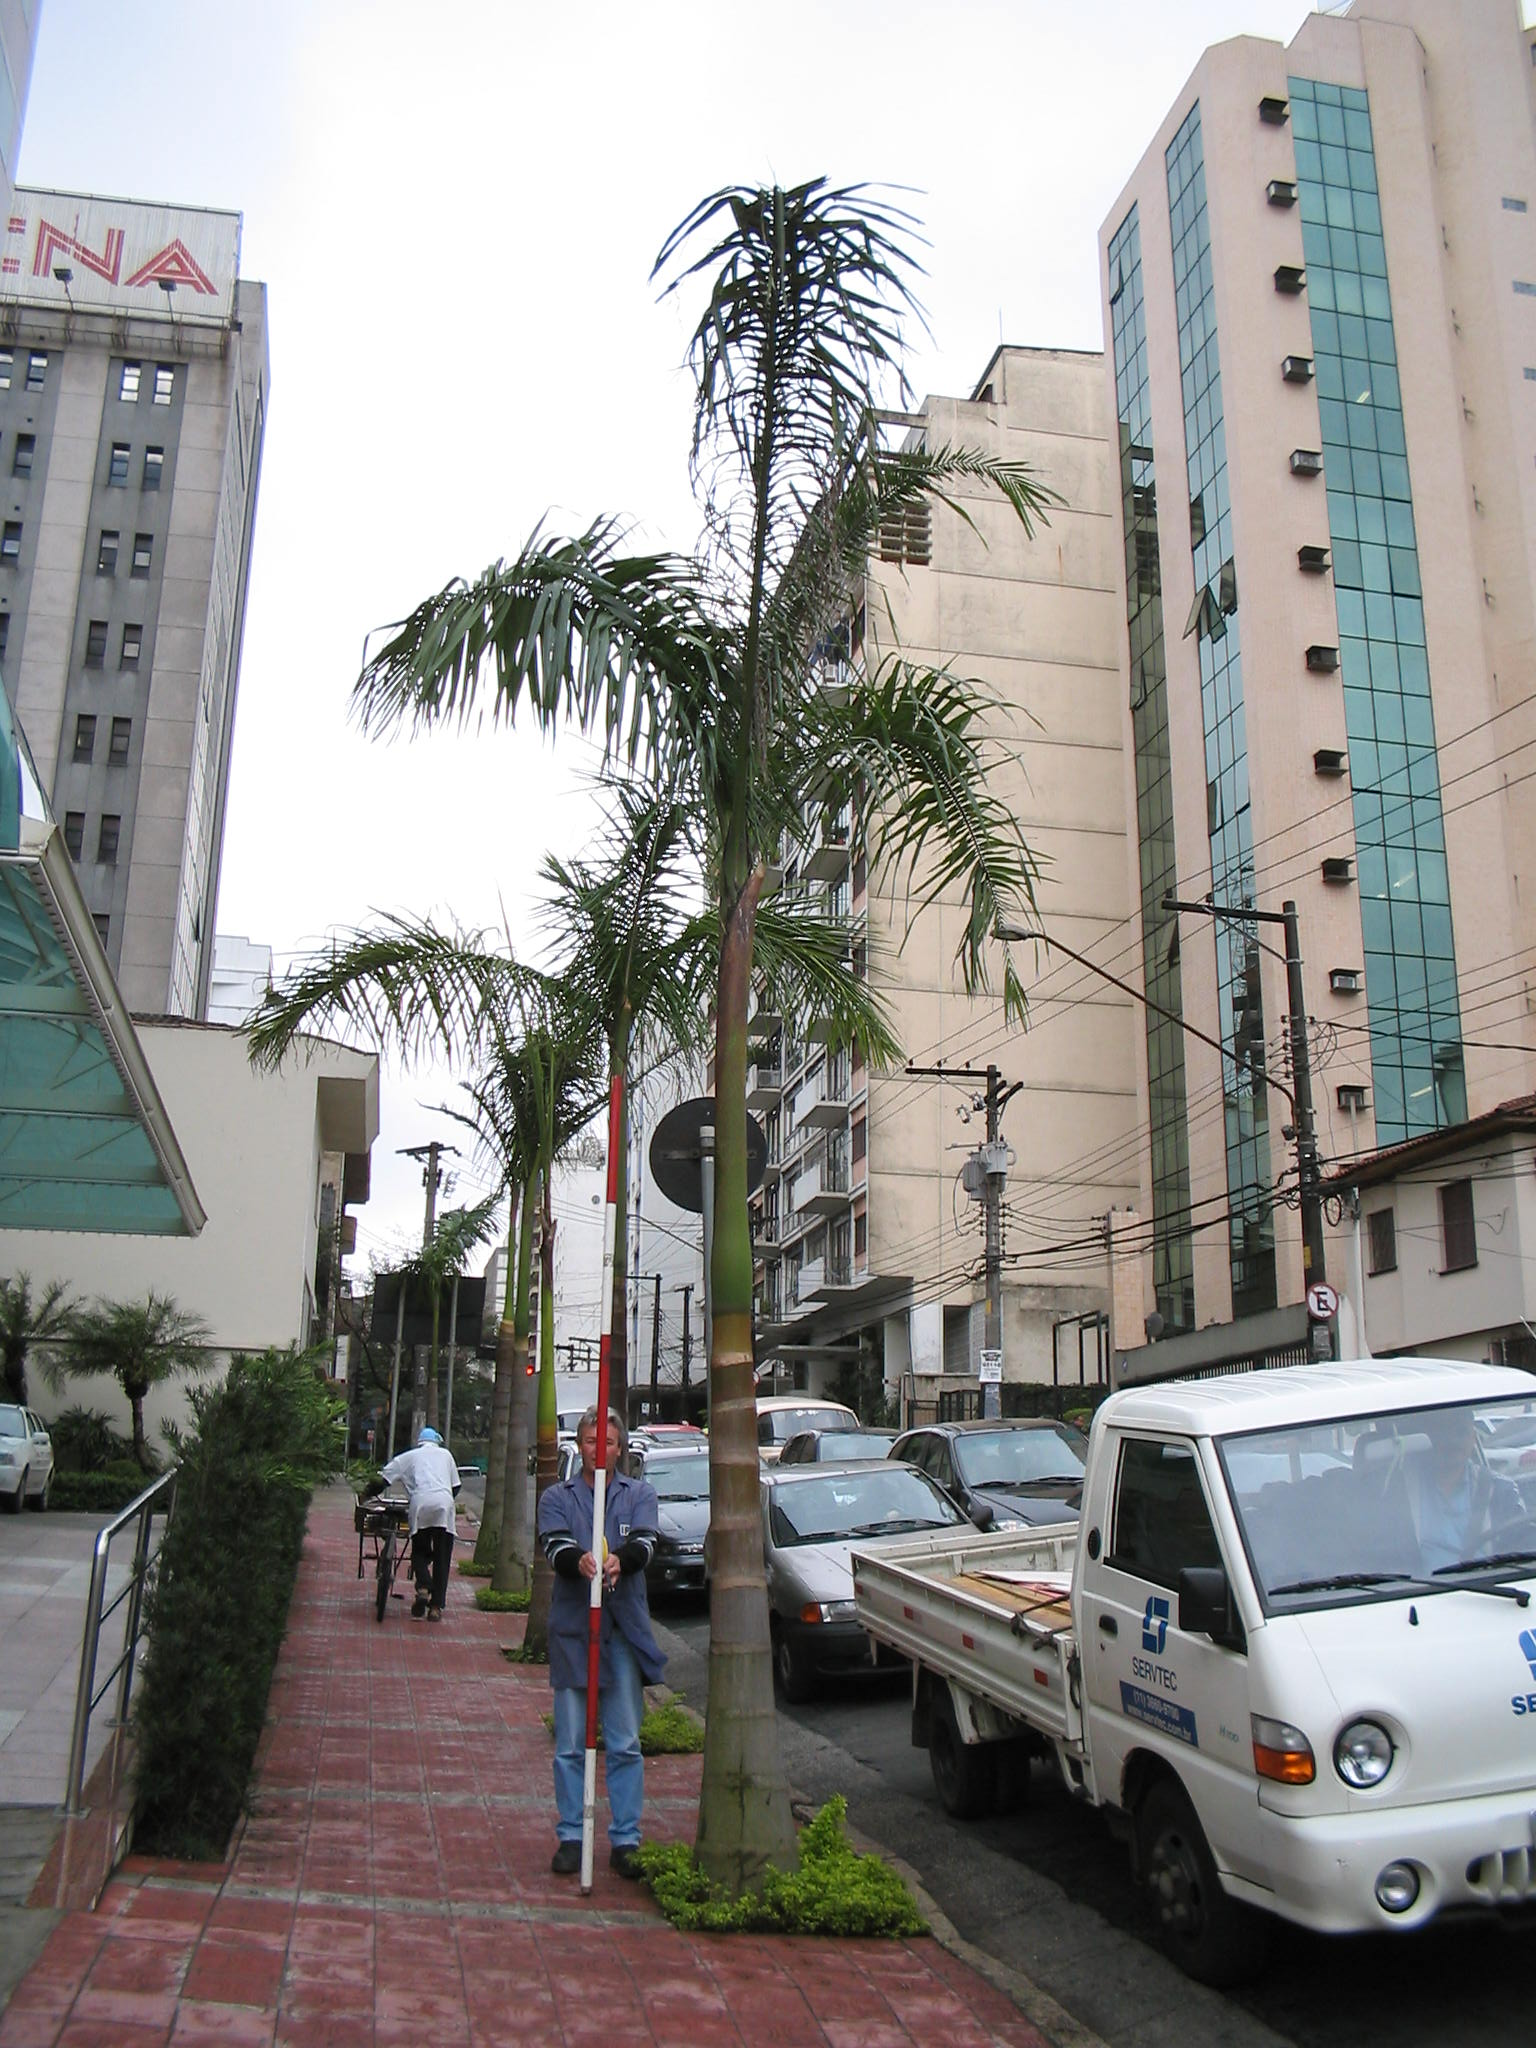crown: (373, 187, 1062, 1105)
stem: (665, 1108, 857, 1895)
stick: (557, 1076, 644, 1892)
tree: (365, 179, 1066, 1895)
